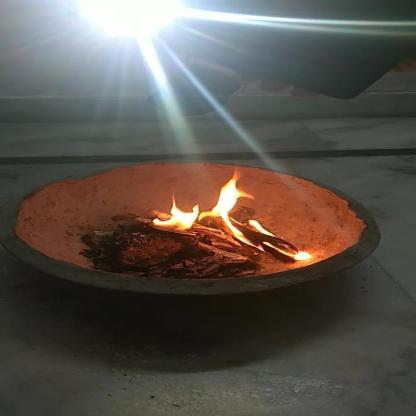fire: (140, 173, 312, 263)
